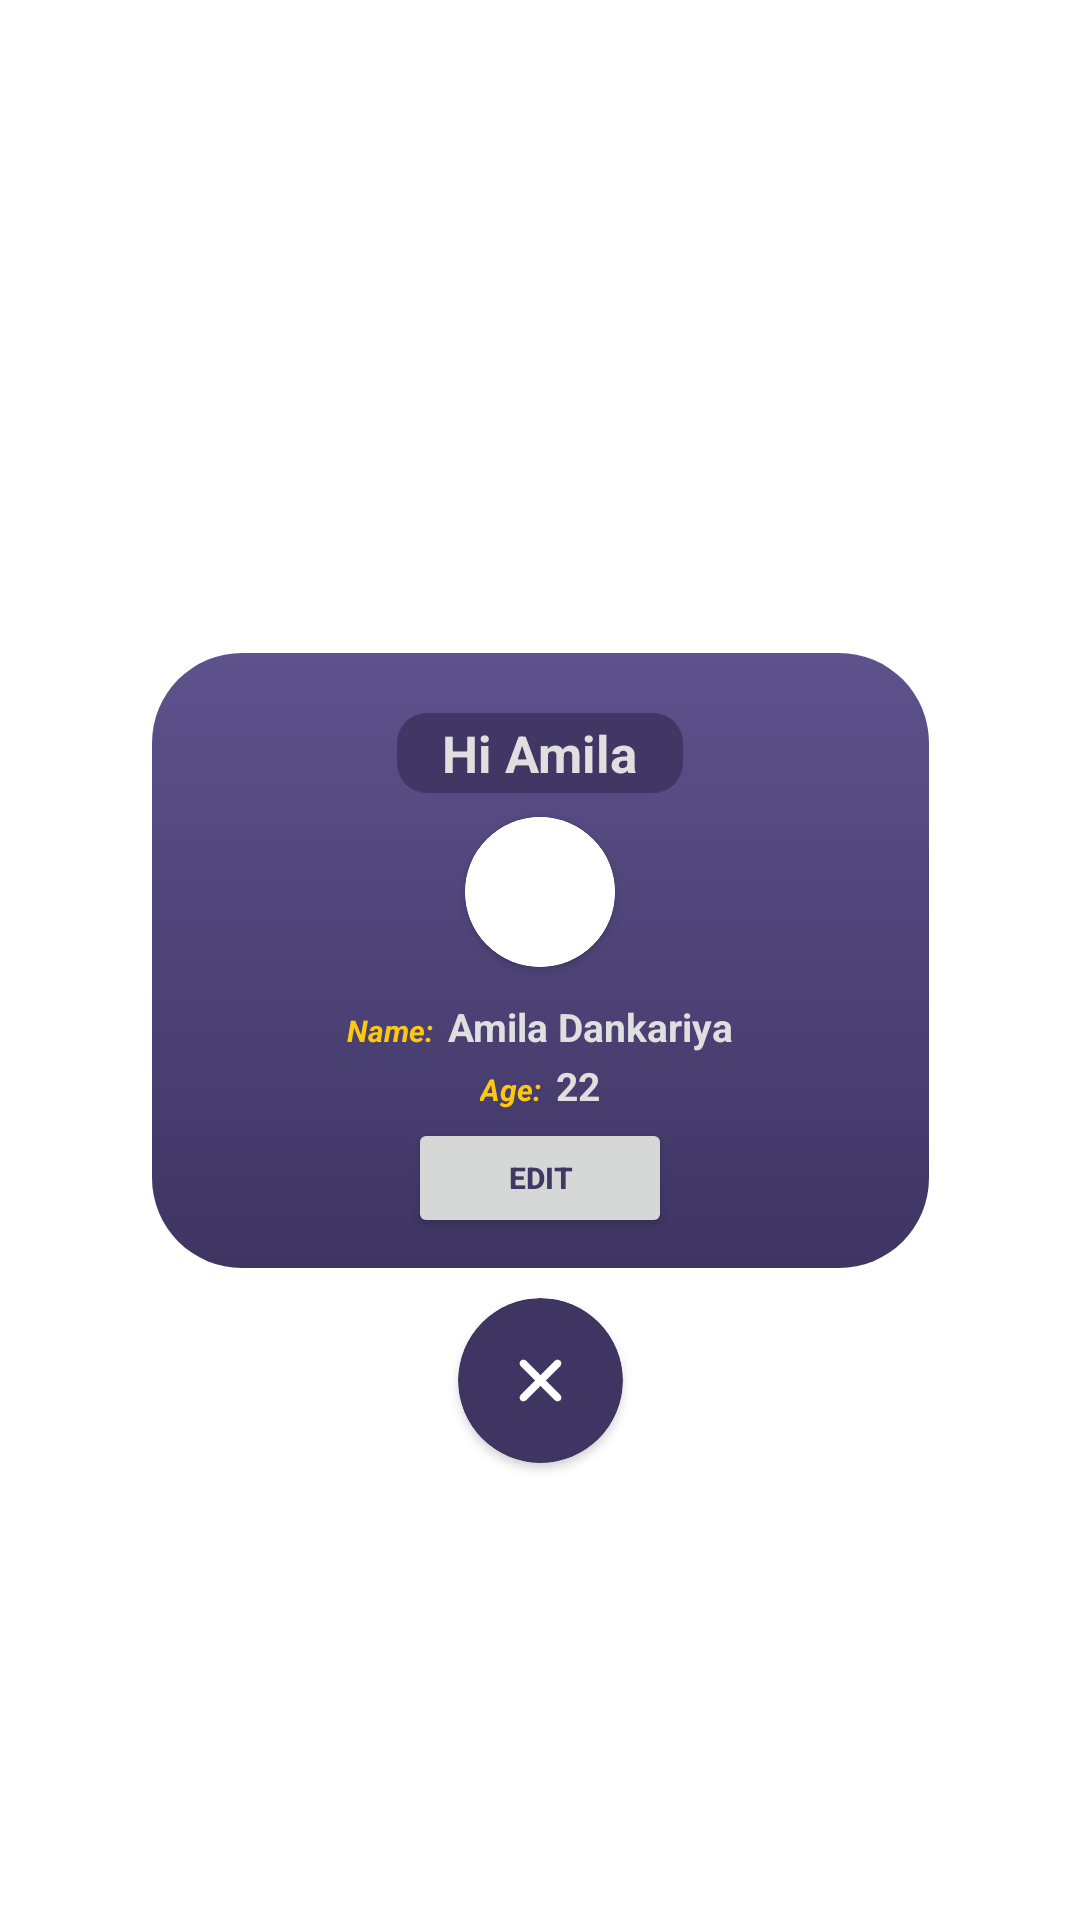

Icon bounding boxes for this 1080px×1920px phone screenshot, format (x1, y1, x2, y2):
cancel: (519, 1359, 562, 1402)
